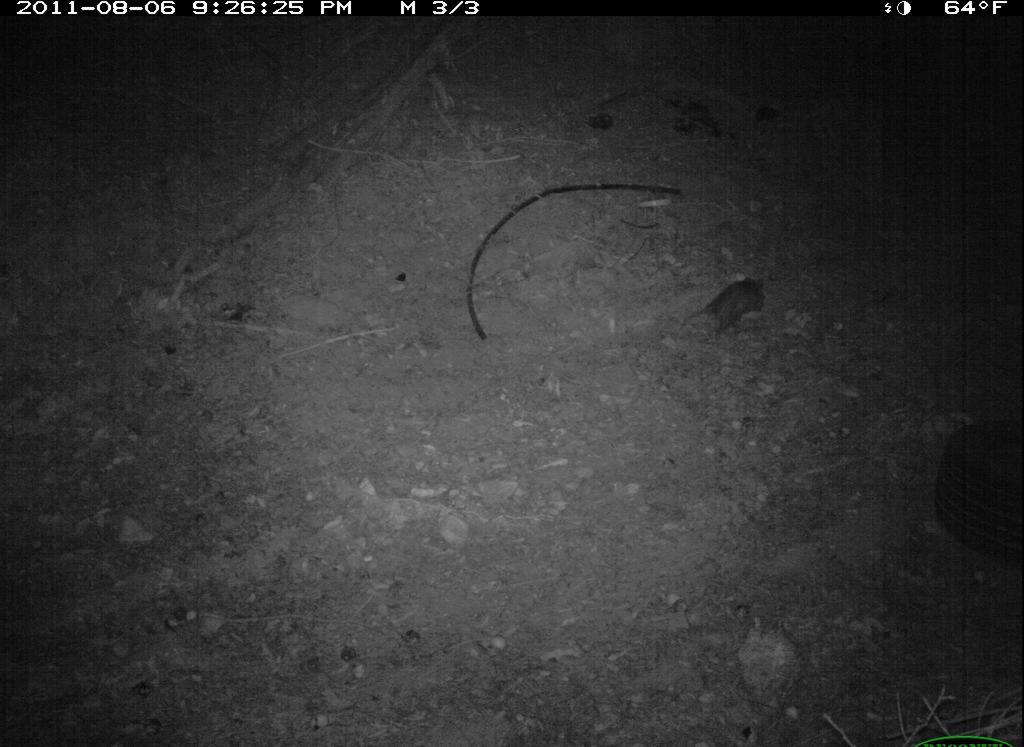opossum: (681, 272, 777, 345)
